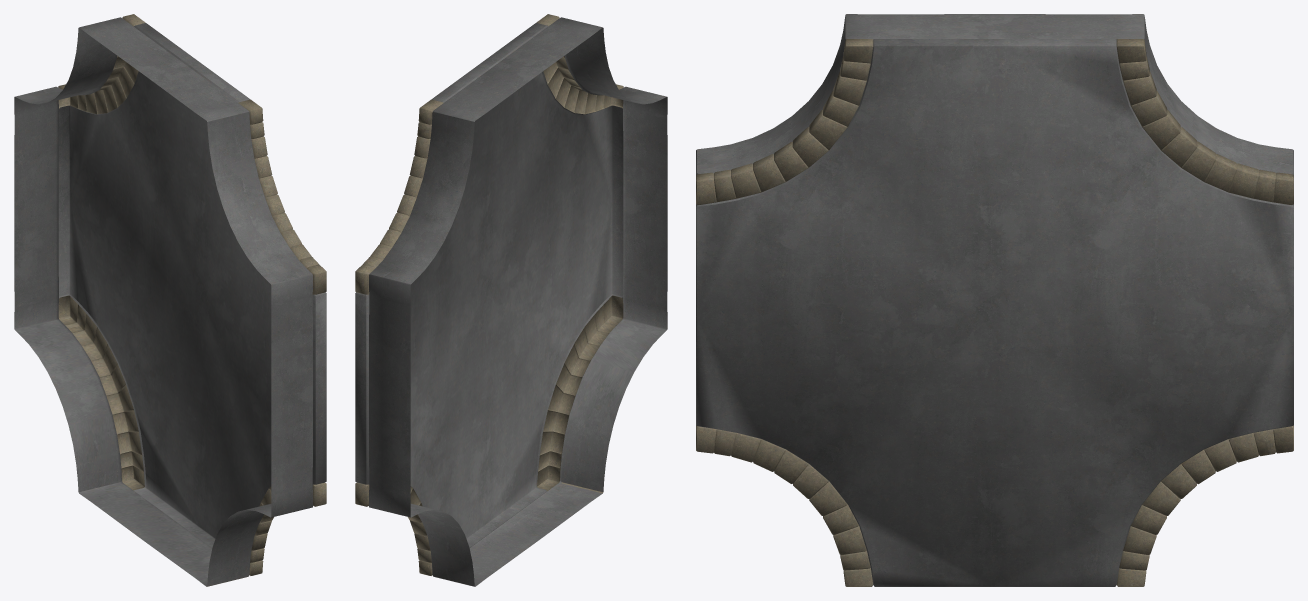
Rendered from cP_Pathway02_Intersection.dae.
3 renders of one model, left to right at view 1: azimuth 30°, elevation 25°; view 2: azimuth 150°, elevation 25°; view 3: azimuth 270°, elevation 25°, orthographic. The views are drawn at different scales.
Visible parts, largest first — view 1: cP_Pathway02_Intersection.001; view 2: cP_Pathway02_Intersection.001; view 3: cP_Pathway02_Intersection.001.
Part boxes in pixels (x1,y1,x2,y2): cP_Pathway02_Intersection.001: [14, 14, 326, 586]; cP_Pathway02_Intersection.001: [355, 14, 667, 586]; cP_Pathway02_Intersection.001: [696, 14, 1293, 586].
Size of the model in its own units: 0.5 by 4 by 4.
